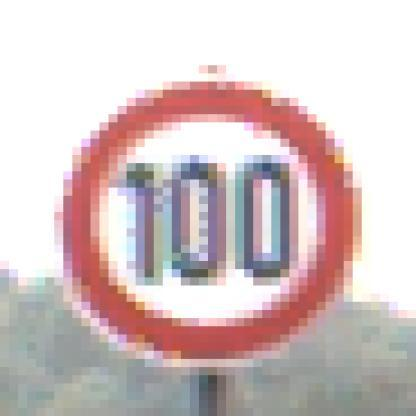Speed Limit -100-: (57, 81, 377, 363)
